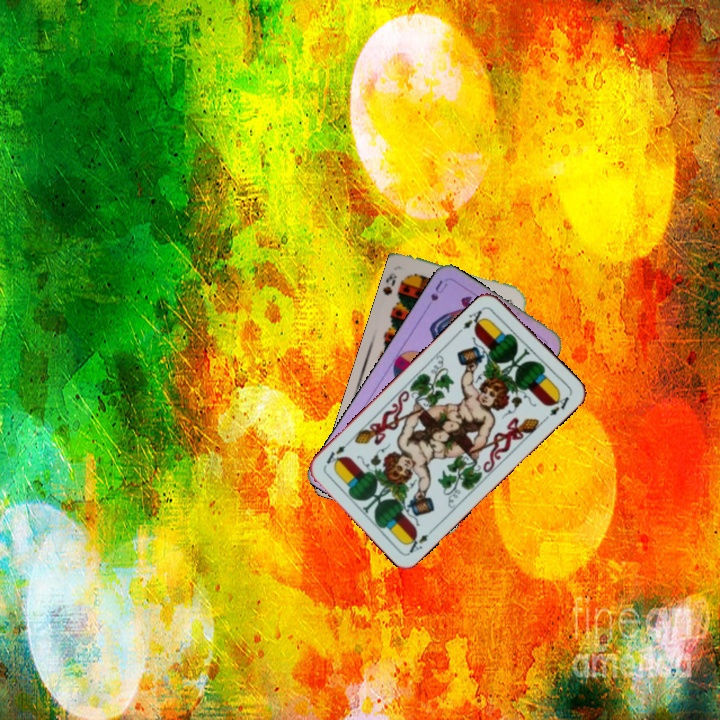EA: (402, 523, 438, 556), (454, 303, 488, 336)
S8: (380, 269, 399, 298)
SU: (427, 276, 450, 304)
